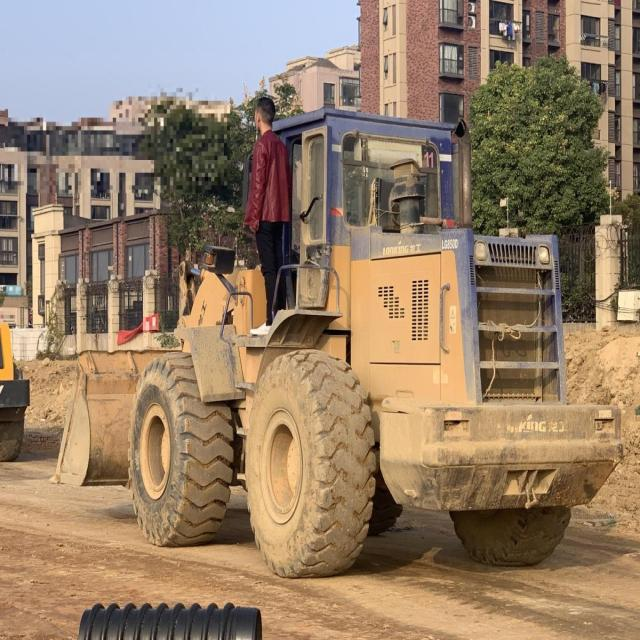machinery: (54, 86, 628, 588)
